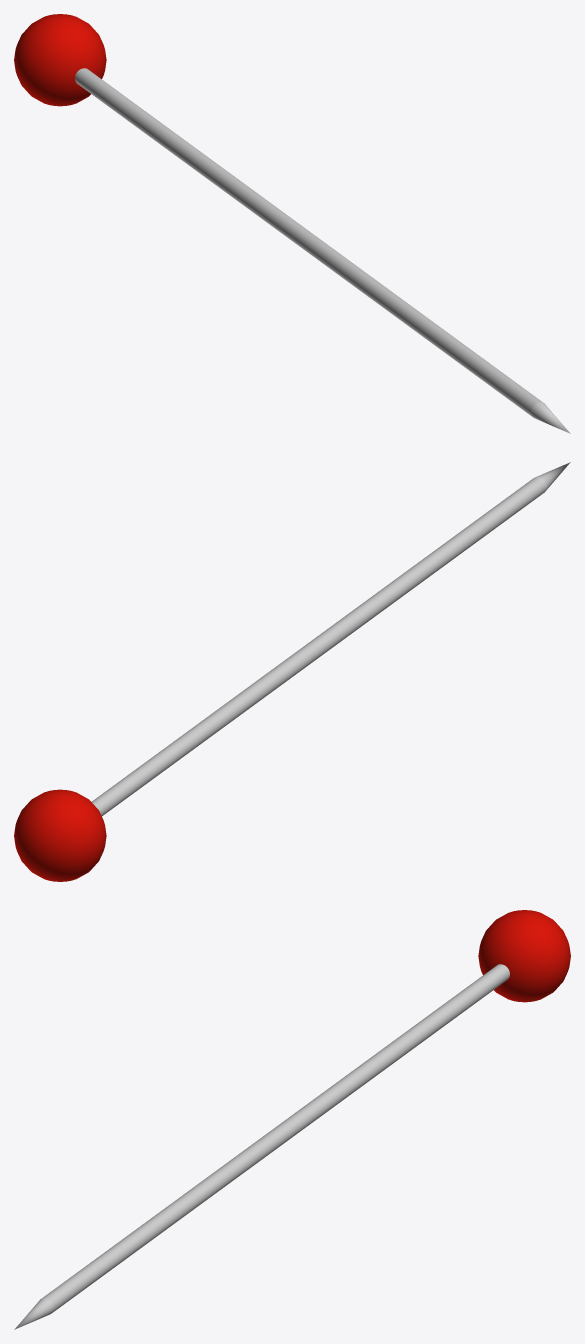
3 views of the same model, one above another, from view 1: azimuth 30°, elevation 25°; view 2: azimuth 150°, elevation 25°; view 3: azimuth 330°, elevation 25° (orthographic).
Visible parts, largest first — view 1: shaft, ball, shaft.001; view 2: shaft, shaft.001, ball; view 3: shaft, ball, shaft.001.
Boxes of the visible parts, x1,y1,x2,y2 form: shaft: (75, 68, 570, 433); ball: (14, 14, 106, 106); shaft.001: (75, 68, 567, 431); shaft: (92, 462, 570, 815); shaft.001: (92, 462, 570, 812); ball: (14, 789, 106, 881); shaft: (14, 964, 509, 1329); ball: (478, 910, 570, 1002); shaft.001: (17, 964, 508, 1327).
Bounding box in the file's own units: 0.00434 × 0.00434 × 0.05.
